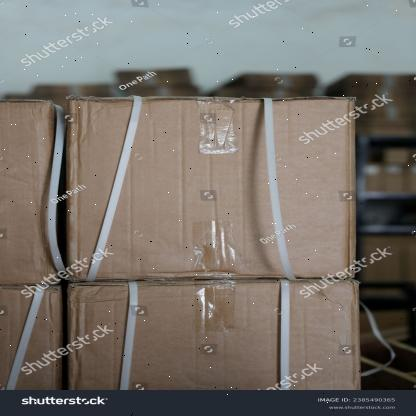box: (67, 97, 358, 280), (71, 280, 362, 389)
